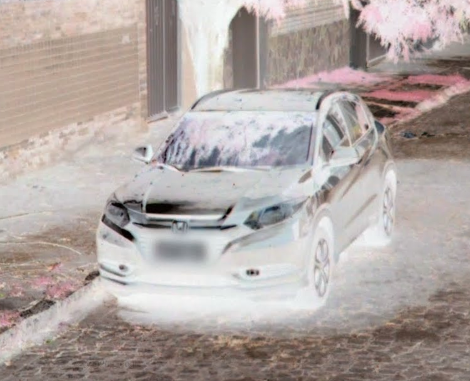car: (92, 69, 403, 307)
